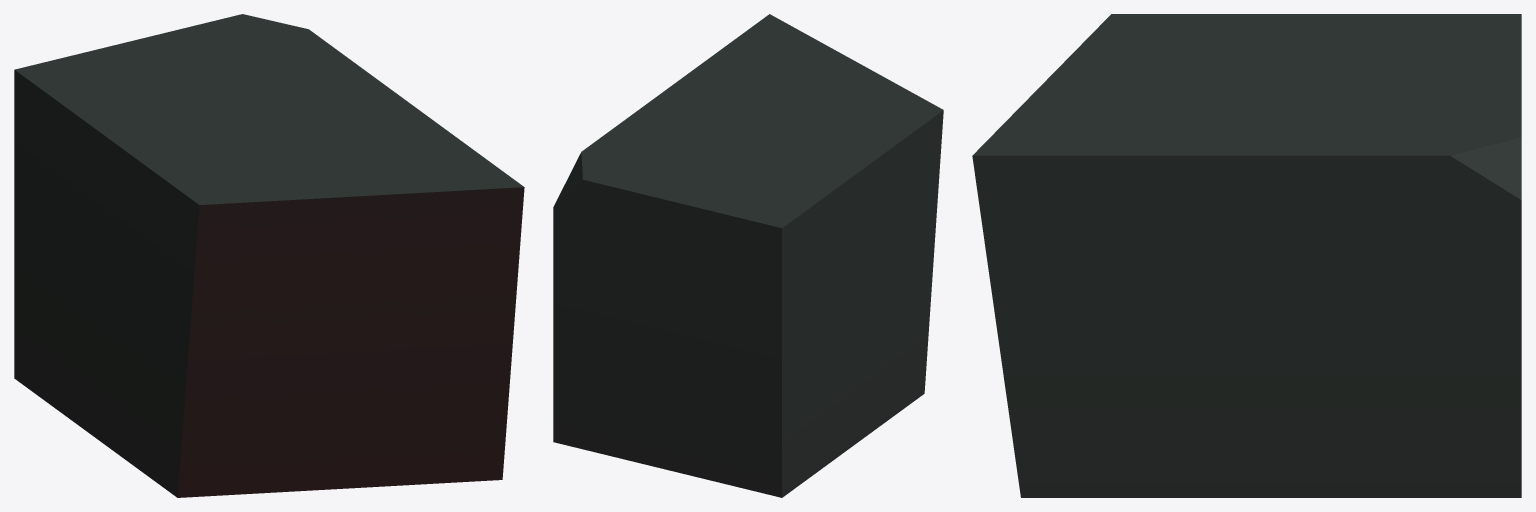
The model's file is SM_BrickRubble_01_Broke.fbx.
The picture shows the model from 3 angles, left to right: view 1: azimuth 30°, elevation 25°; view 2: azimuth 150°, elevation 25°; view 3: azimuth 270°, elevation 25°; orthographic projection. The views are drawn at different scales.
Parts seen in each view (by area): view 1: SM_BrickRubble_01_Broke; view 2: SM_BrickRubble_01_Broke; view 3: SM_BrickRubble_01_Broke.
Boxes of the visible parts, x1,y1,x2,y2 form: SM_BrickRubble_01_Broke: (14, 14, 524, 497); SM_BrickRubble_01_Broke: (553, 14, 943, 497); SM_BrickRubble_01_Broke: (972, 14, 1521, 497).
Size of the model in its own units: 32.09 by 36.11 by 52.54.
1 material, 1 textured.
